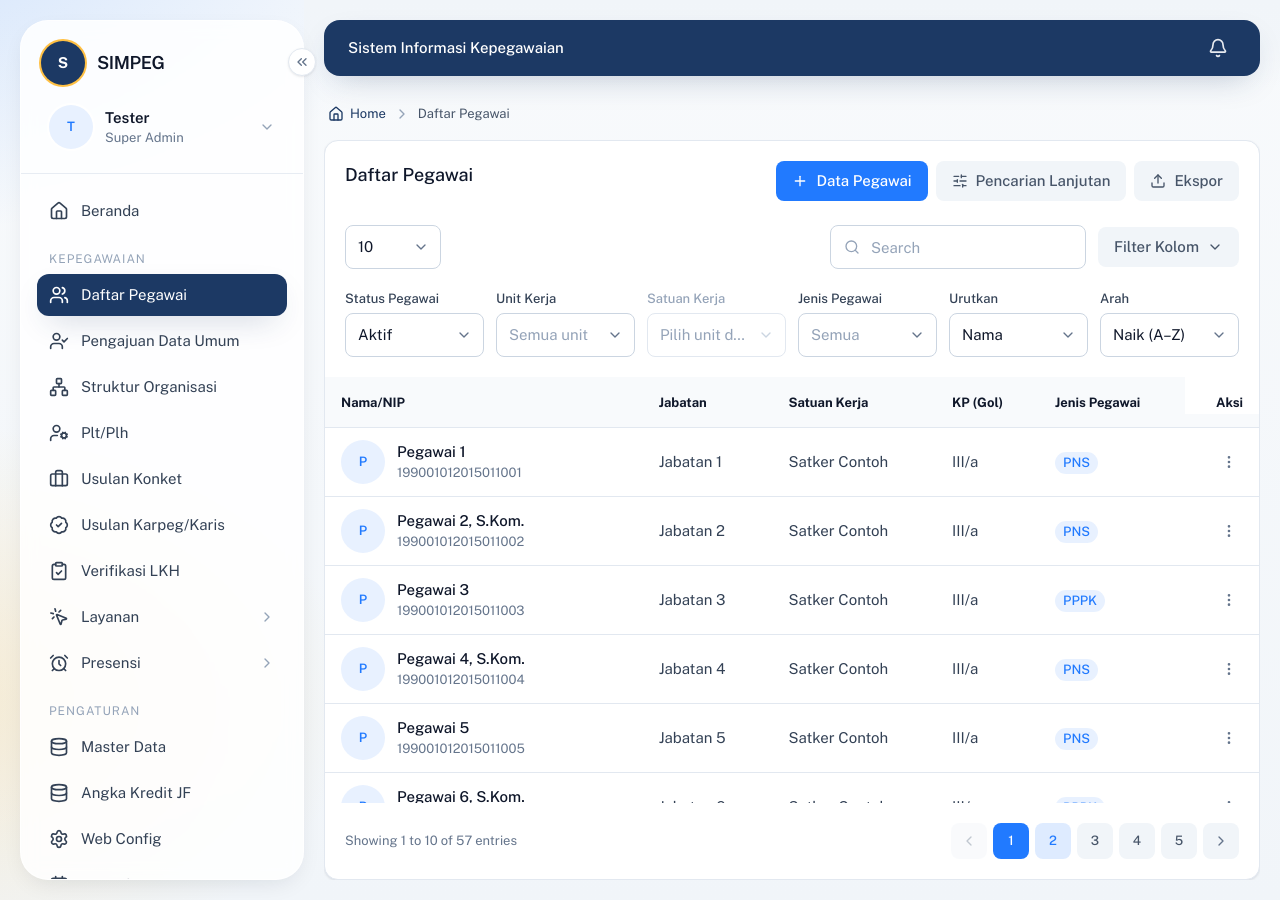
Scenario: DaftarPegawaiPage — aksi & role › "+ Data Pegawai" hanya Super Admin dan membuka dialog Tambah Pegawai (B-05)
Click the button with test id "add-pegawai".
click(852, 181)  # box [776,161,928,201]
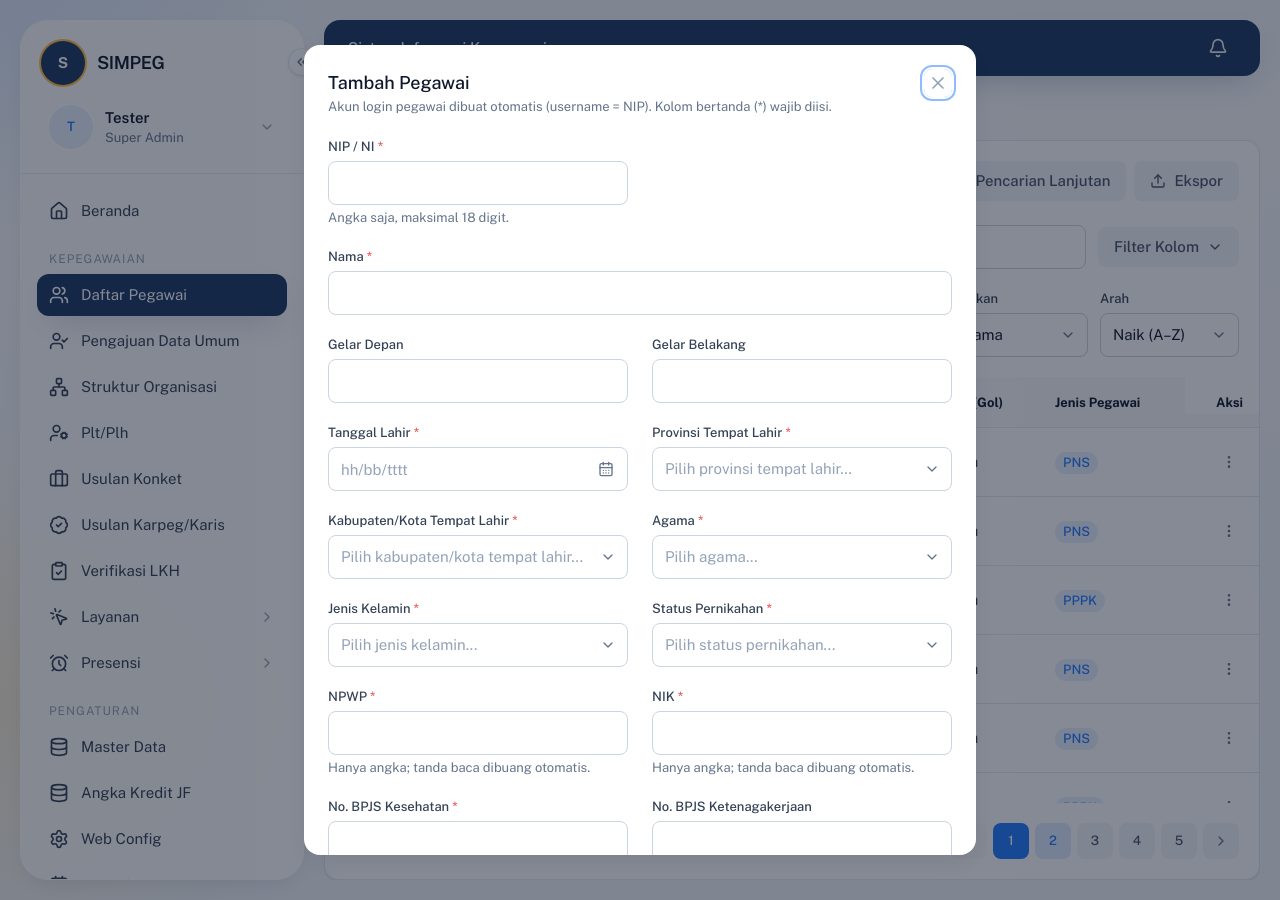
Result: the dialog with test id "tambah-pegawai-dialog" is shown at [304,45,976,855]
Result: the element showing "NIP / NI * Angka saja, maksimal 18 digit." is shown at [328,137,628,227]
